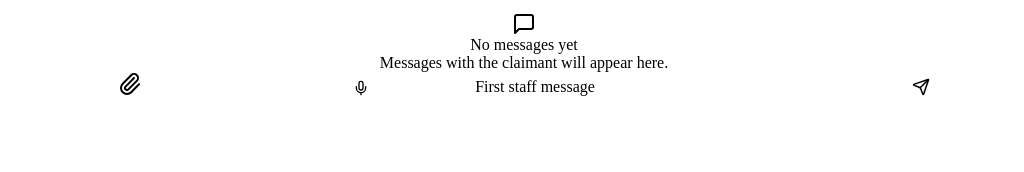
Test: Conversation › cancels active capture while keeping transcript text editable
Click the button named "Use voice input".
click(361, 88)  # box [248, 80, 475, 96]
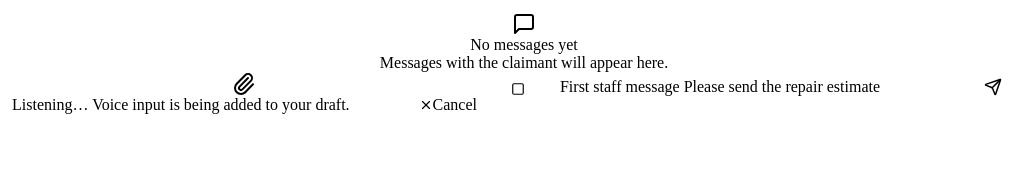
Click the button "Cancel".
click(448, 105)  # box [419, 96, 477, 114]
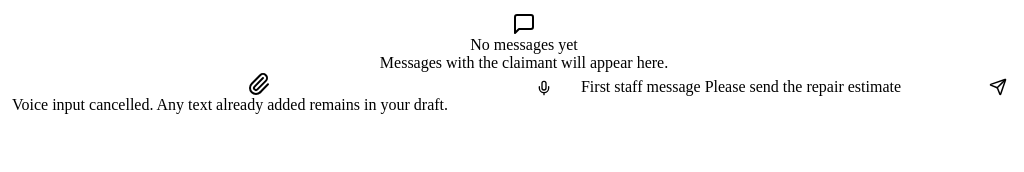
Expected: the button named "Use voice input" is enabled, [506, 80, 581, 96]
Expected: the text box named "Message to claimant" holds "First staff message Please send the repair estimate", [581, 78, 960, 96]
Expected: the text "Voice input cancelled. Any text already added remains in your draft." is shown, [12, 96, 448, 114]
